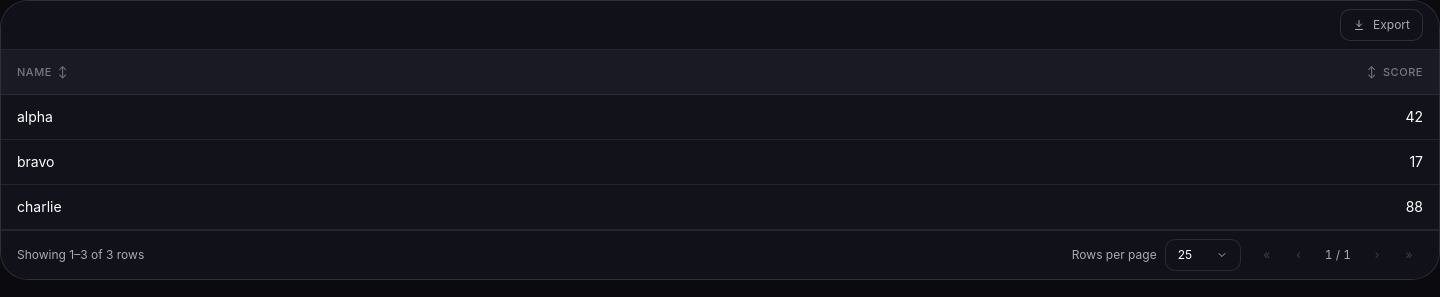
Test: DataTable — density / export / row actions (4f) › showExport opens a menu with CSV / TSV / JSON items
This screenshot has width=1440, height=297.
Click the button "Export" at (1382, 25), box 1340,9 -> 1423,41
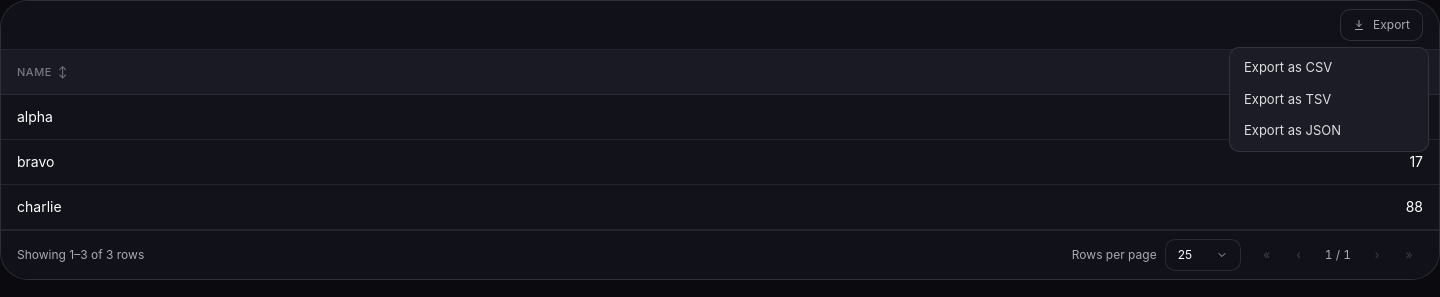
expect the text "Export as CSV" is shown: met, box 1244,59 -> 1332,75
expect the text "Export as TSV" is shown: met, box 1244,90 -> 1331,106
expect the text "Export as JSON" is shown: met, box 1244,122 -> 1341,138
